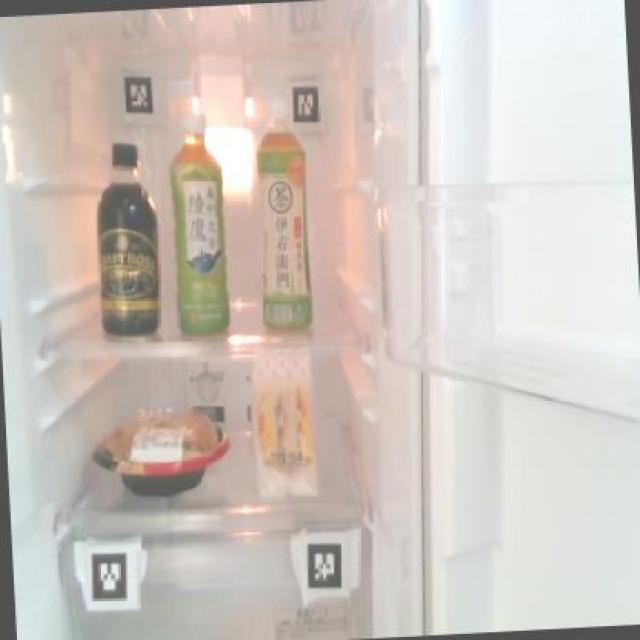bento: (87, 406, 235, 497)
coffee: (89, 136, 165, 336)
sandwich: (244, 343, 322, 505)
tea_a: (164, 110, 233, 339)
tea_i: (250, 118, 312, 331)
